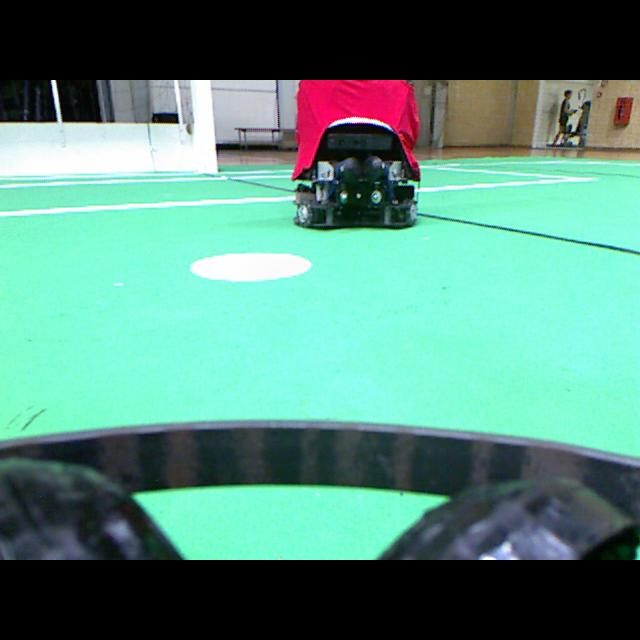goal: (191, 80, 217, 172)
